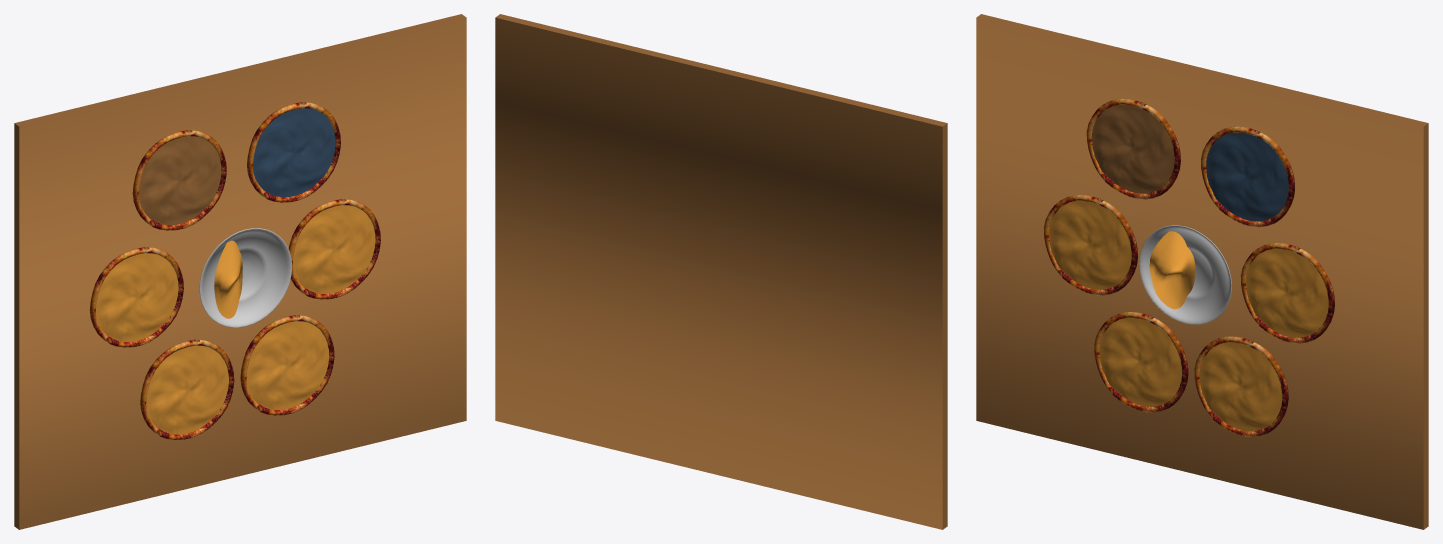
The model's file is Pizza.obj.
The picture shows the model from 3 angles, left to right: view 1: azimuth 30°, elevation 25°; view 2: azimuth 150°, elevation 25°; view 3: azimuth 330°, elevation 25°; orthographic projection.
Parts seen in each view (by area): view 1: Wood_Cedfence, krug, pizza4, pizza5, Ground_Water, pizza3, pizza1, Material__17, polu_krug; view 2: Wood_Cedfence; view 3: Wood_Cedfence, krug, Ground_Water, pizza4, pizza3, pizza5, pizza1, Material__17, polu_krug.
Part boxes in pixels (x1,y1,x2,y2): Wood_Cedfence: [14, 14, 466, 529]; krug: [90, 102, 380, 439]; pizza4: [246, 321, 329, 410]; pizza5: [146, 345, 228, 434]; Ground_Water: [253, 108, 335, 197]; pizza3: [293, 205, 375, 293]; pizza1: [96, 253, 178, 342]; Material__17: [199, 228, 292, 327]; polu_krug: [214, 240, 242, 318]; Wood_Cedfence: [495, 14, 947, 529]; Wood_Cedfence: [976, 14, 1428, 529]; krug: [1043, 99, 1334, 436]; Ground_Water: [1206, 132, 1288, 221]; pizza4: [1199, 342, 1282, 431]; pizza3: [1246, 249, 1328, 337]; pizza5: [1099, 318, 1181, 406]; pizza1: [1049, 201, 1131, 289]; Material__17: [1139, 225, 1231, 324]; polu_krug: [1149, 231, 1195, 309].
Bounding box in the file's own units: 374 × 322 × 23.28.
